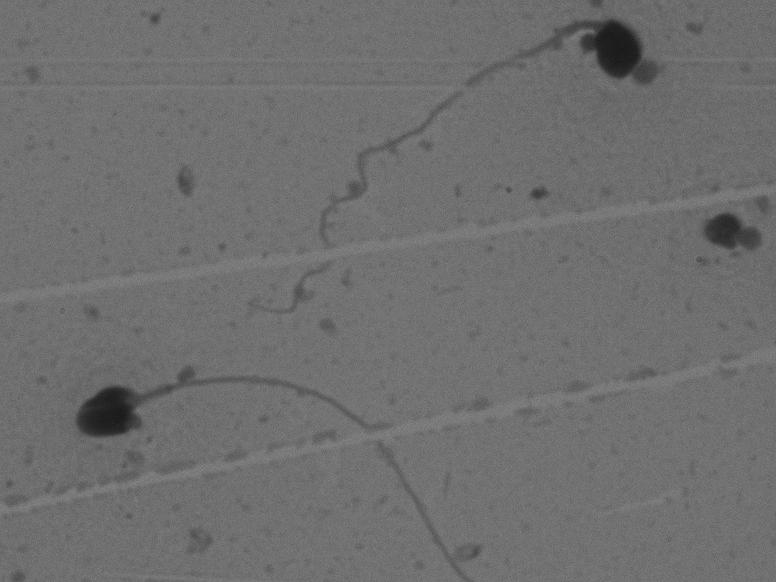Abnormal: (222, 10, 675, 314), (39, 322, 503, 564)
